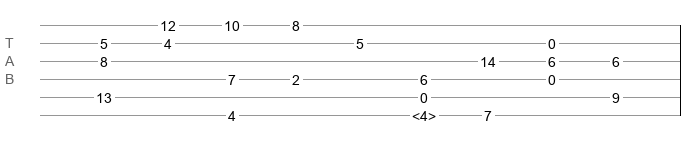0: (420, 90, 428, 100), (548, 36, 556, 46), (548, 72, 556, 82)
10: (224, 18, 240, 28)
12: (160, 18, 176, 28)
13: (96, 90, 112, 100)
14: (480, 54, 496, 64)
2: (292, 72, 300, 82)
4: (164, 36, 172, 46), (228, 108, 236, 118)
5: (100, 36, 108, 46), (356, 36, 364, 46)
6: (420, 72, 428, 82), (548, 54, 556, 64), (612, 54, 620, 64)
7: (228, 72, 236, 82), (484, 108, 492, 118)
8: (100, 54, 108, 64), (292, 18, 300, 28)
9: (612, 90, 620, 100)
harmonic: (412, 108, 436, 118)
